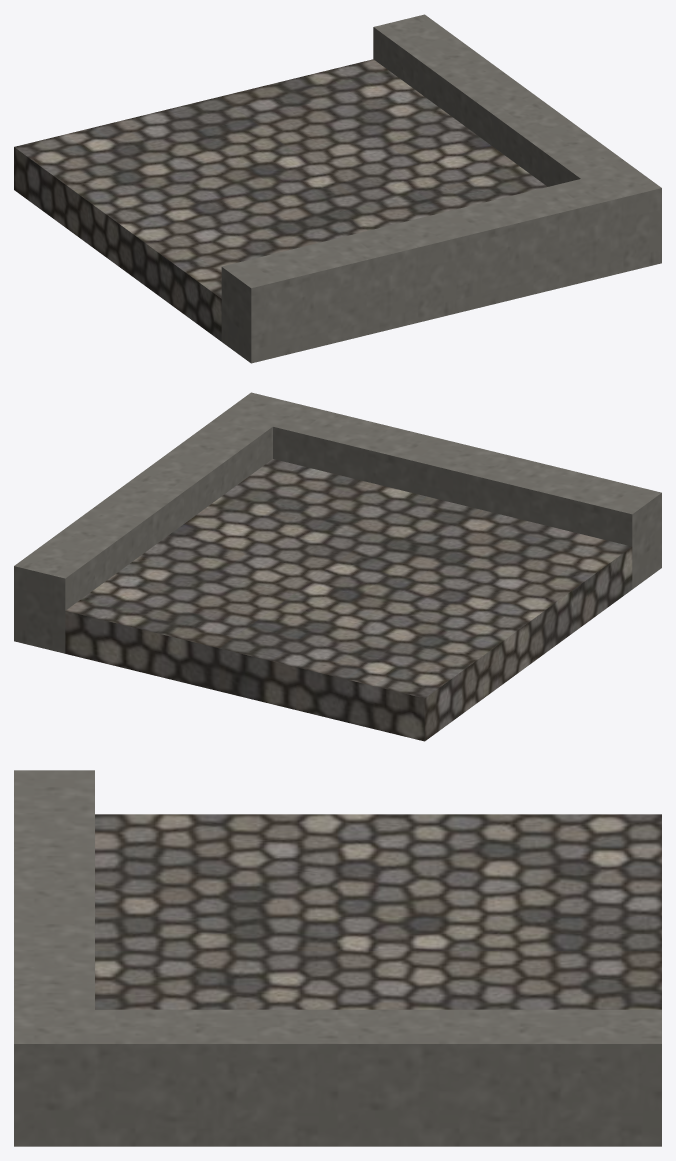
File: road-corner.lod1.glb
The picture shows the model from 3 angles, top to bottom: view 1: azimuth 30°, elevation 25°; view 2: azimuth 150°, elevation 25°; view 3: azimuth 270°, elevation 25°; orthographic projection. The views are drawn at different scales.
Visible parts, largest first — view 1: RoadCorner_cobble, RoadCorner_granite; view 2: RoadCorner_cobble, RoadCorner_granite; view 3: RoadCorner_cobble, RoadCorner_granite.
Boxes of the visible parts, left/top/right/bottom form: RoadCorner_cobble: left=14, top=59, right=547, bottom=341; RoadCorner_granite: left=221, top=14, right=661, bottom=363; RoadCorner_cobble: left=65, top=459, right=632, bottom=741; RoadCorner_granite: left=14, top=392, right=661, bottom=653; RoadCorner_cobble: left=95, top=814, right=661, bottom=1009; RoadCorner_granite: left=14, top=770, right=661, bottom=1146.
Size of the model in its own units: 2 by 0.35 by 2.
Materials: 2 (2 with a texture image).
